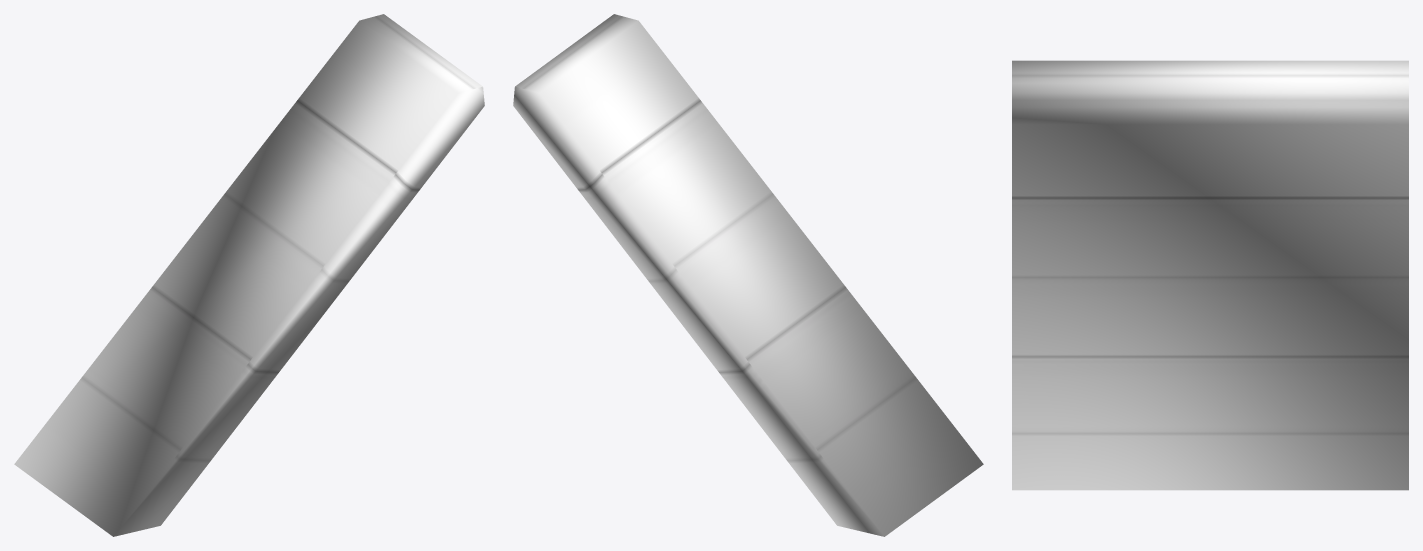
Rendered from stair.glb.
3 renders of one model, left to right at view 1: azimuth 30°, elevation 25°; view 2: azimuth 150°, elevation 25°; view 3: azimuth 270°, elevation 25°, orthographic. The views are drawn at different scales.
Visible parts, largest first — view 1: stair; view 2: stair; view 3: stair.
Part boxes in pixels (box(x1,y1,x2,y2)): stair: box(14, 14, 484, 536); stair: box(513, 14, 983, 536); stair: box(1012, 60, 1408, 490).
Size of the model in its own units: 3.24 by 3.01 by 1.5.
1 material, 1 textured.
